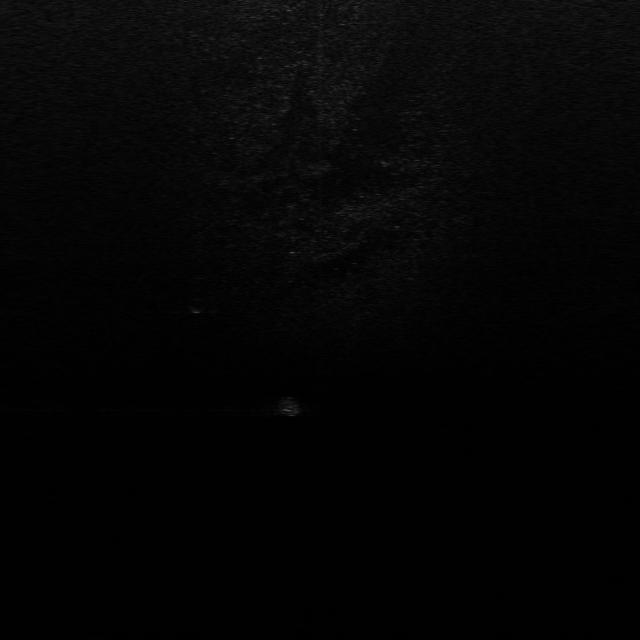ball: (274, 396, 304, 415)
circle cage: (186, 296, 214, 316)
